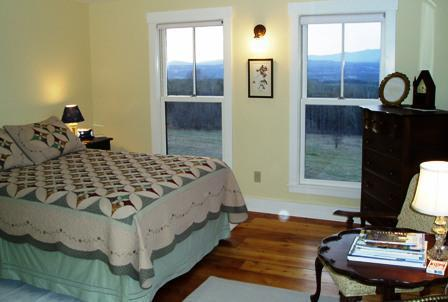Armario: (363, 110, 402, 214)
Cama: (11, 129, 239, 291)
Ventana: (295, 11, 381, 185), (165, 19, 228, 158)
